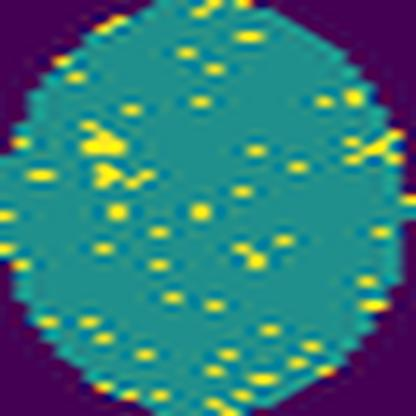Loc: (91, 160, 164, 190), (80, 117, 130, 158)
